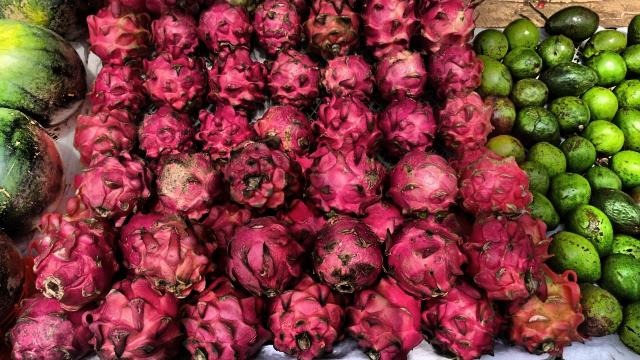buah-naga-belum-matang: (134, 216, 213, 296), (508, 268, 578, 354), (157, 149, 225, 215), (369, 43, 427, 102), (304, 0, 360, 54), (363, 0, 417, 52), (418, 4, 476, 47), (320, 52, 372, 96)
buah-naga-matang: (31, 208, 118, 302), (93, 278, 183, 360), (182, 280, 274, 360), (378, 219, 470, 292), (226, 217, 306, 297), (426, 278, 504, 360), (459, 212, 535, 294), (301, 139, 383, 214), (274, 276, 346, 360), (12, 288, 94, 360), (308, 224, 390, 288), (348, 286, 417, 360), (458, 154, 538, 216), (228, 142, 300, 206), (74, 155, 152, 213), (80, 4, 152, 63), (432, 90, 493, 154), (387, 154, 455, 209), (73, 103, 139, 159), (206, 52, 264, 110), (266, 48, 320, 108), (376, 92, 432, 148), (137, 105, 201, 153), (144, 55, 203, 107), (317, 96, 379, 144), (256, 106, 322, 150), (86, 66, 148, 112), (250, 0, 302, 54), (427, 44, 483, 92), (198, 6, 252, 52), (196, 105, 250, 146), (152, 7, 198, 49)
